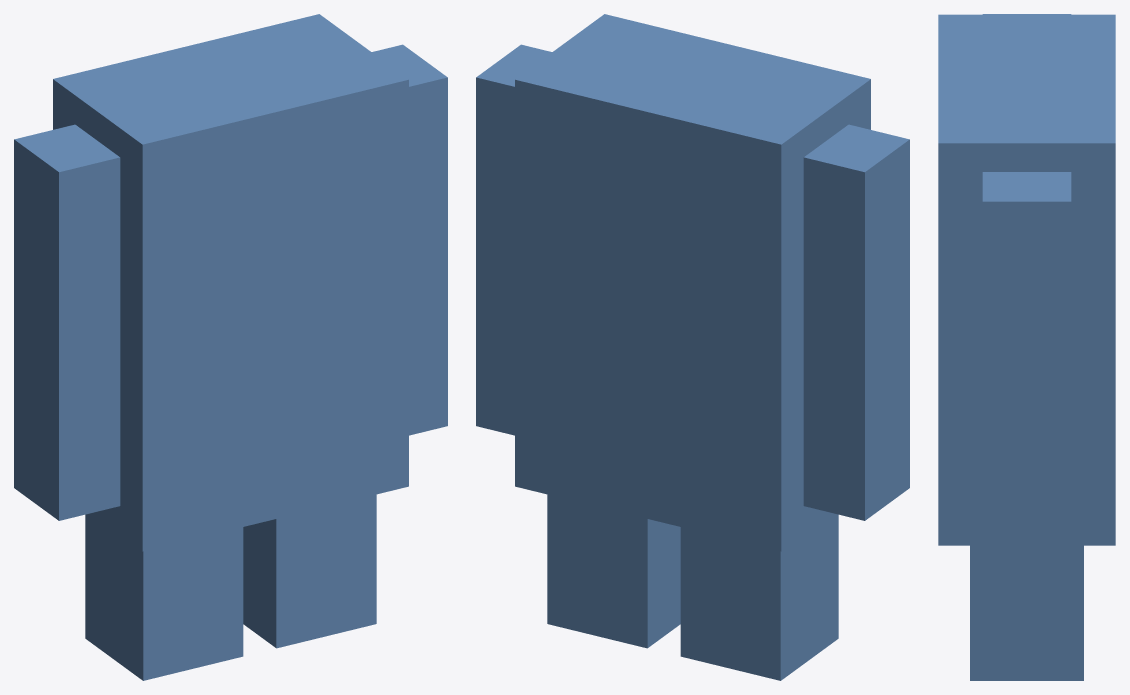
File: bib_overalls.glb
3 views of the same model, side by side, from view 1: azimuth 30°, elevation 25°; view 2: azimuth 150°, elevation 25°; view 3: azimuth 270°, elevation 25° (orthographic).
Parts seen in each view (by area): view 1: garment, sleeve_l, leg_l, leg_r, sleeve_r; view 2: garment, sleeve_l, leg_l, leg_r, sleeve_r; view 3: garment, sleeve_r, leg_r.
Part boxes in pixels (box(x1,y1,x2,y2)): garment: box(53, 14, 408, 551); sleeve_l: box(14, 124, 120, 520); leg_l: box(85, 513, 243, 680); leg_r: box(243, 494, 376, 648); sleeve_r: box(372, 44, 447, 435); garment: box(515, 14, 870, 551); sleeve_l: box(803, 124, 909, 520); leg_l: box(680, 513, 838, 680); leg_r: box(547, 494, 680, 648); sleeve_r: box(476, 44, 551, 435); garment: box(938, 14, 1115, 545); sleeve_r: box(982, 172, 1071, 546); leg_r: box(970, 545, 1083, 680).
Bounding box in the file's own units: 0.7001 × 0.95 × 0.2798.
